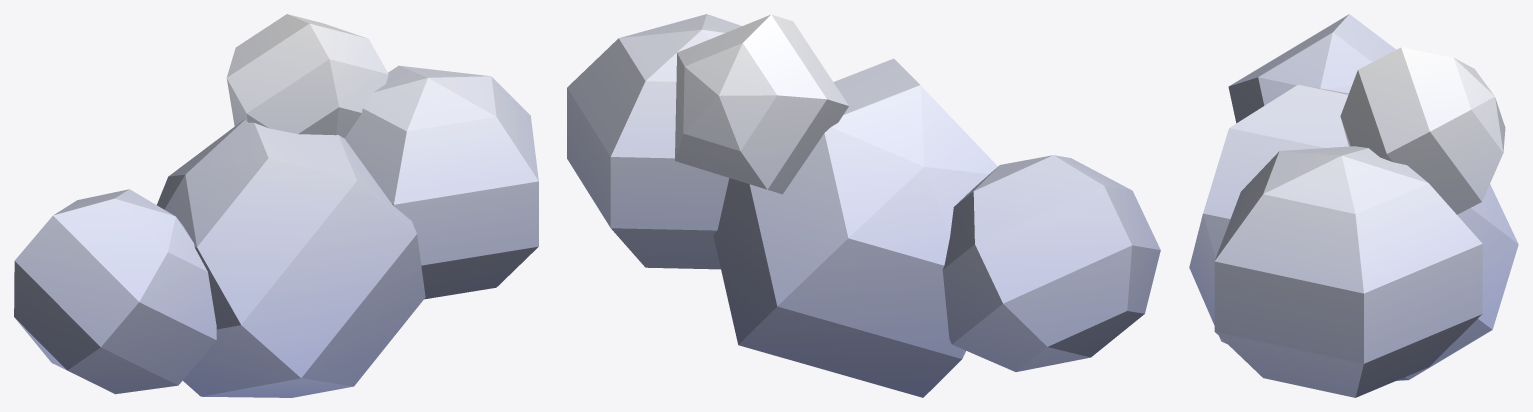
File: nube.fbx
3 renders of one model, left to right at view 1: azimuth 30°, elevation 25°; view 2: azimuth 150°, elevation 25°; view 3: azimuth 270°, elevation 25°, orthographic. The views are drawn at different scales.
Visible parts, largest first — view 1: nube 1; view 2: nube 1; view 3: nube 1.
Boxes of the visible parts, x1,y1,x2,y2 form: nube 1: [14, 14, 538, 397]; nube 1: [567, 14, 1160, 397]; nube 1: [1189, 14, 1518, 397].
Bounding box in the file's own units: 1426 × 893 × 731.
